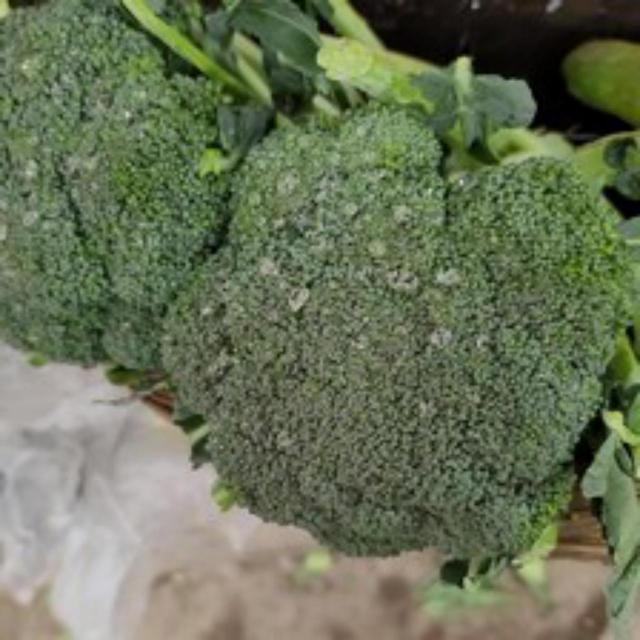broccoli: (152, 108, 630, 568)
